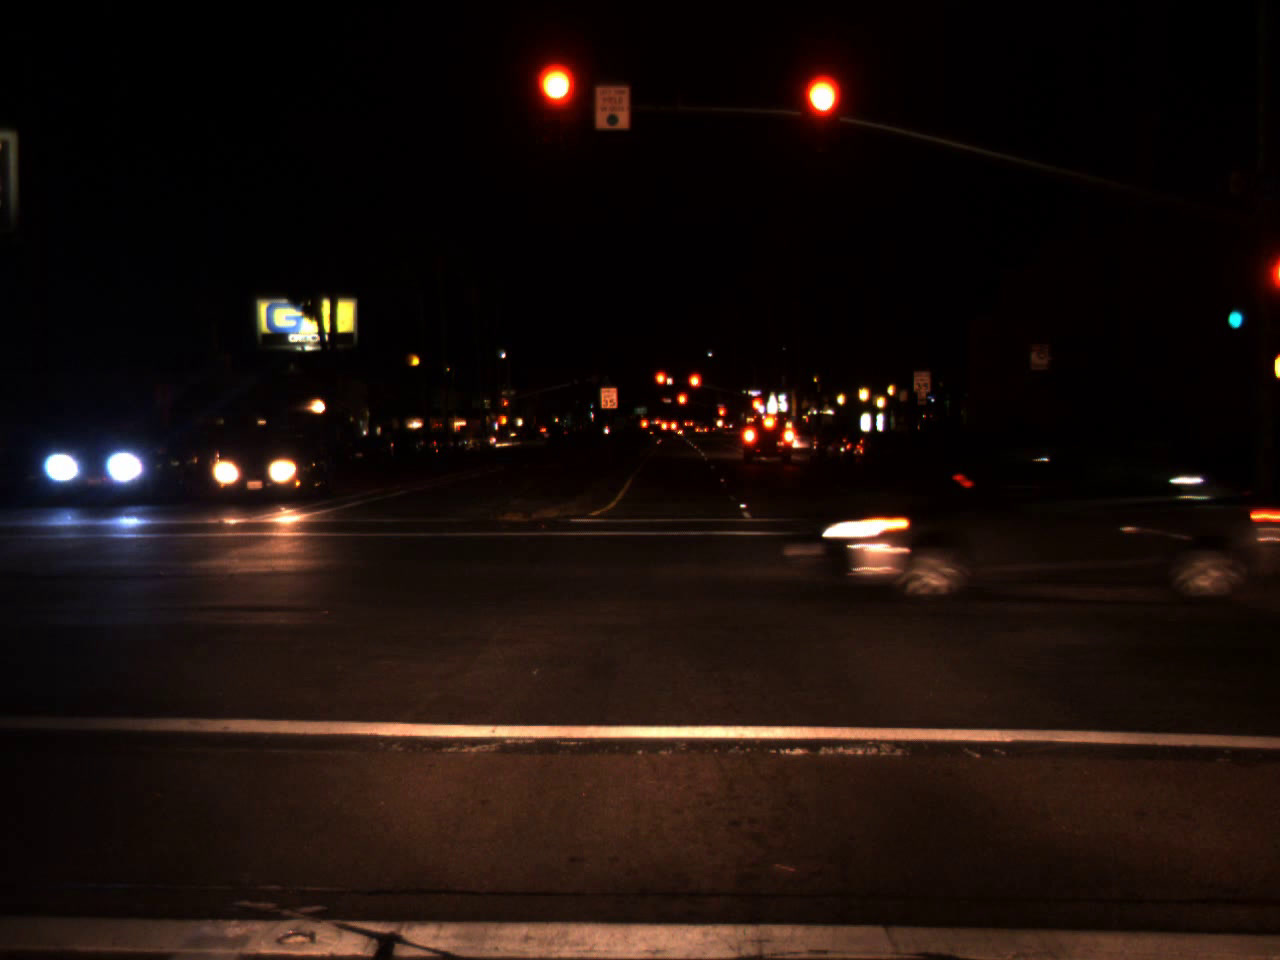stop: (537, 65, 577, 143), (801, 75, 840, 153), (653, 369, 668, 401), (686, 372, 702, 401), (675, 391, 688, 418), (749, 396, 764, 412), (717, 406, 727, 427), (502, 400, 508, 410)
